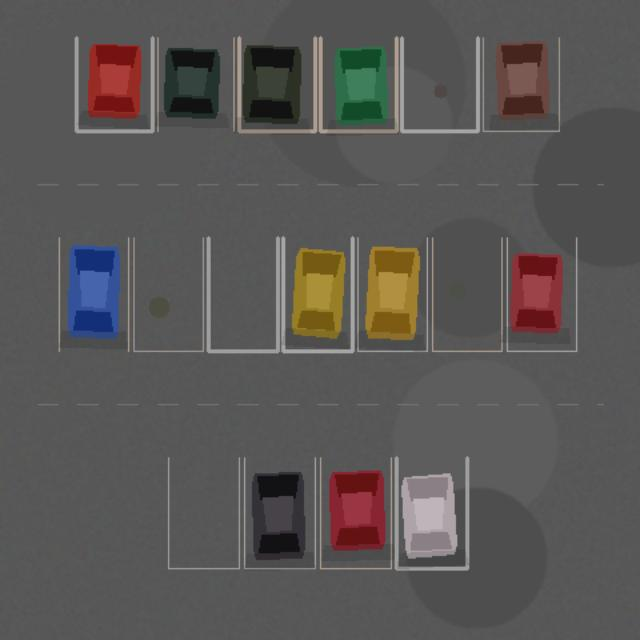space-empty: (133, 237, 203, 351), (168, 457, 239, 568), (208, 237, 277, 351), (432, 237, 501, 351), (401, 37, 477, 131)
space-occupied: (357, 237, 427, 351), (244, 457, 315, 568), (320, 457, 391, 568), (396, 457, 467, 568), (59, 237, 128, 351), (283, 237, 352, 351), (507, 237, 576, 351), (76, 37, 152, 131), (157, 37, 233, 131), (239, 37, 315, 131), (320, 37, 396, 131), (483, 37, 559, 131)
